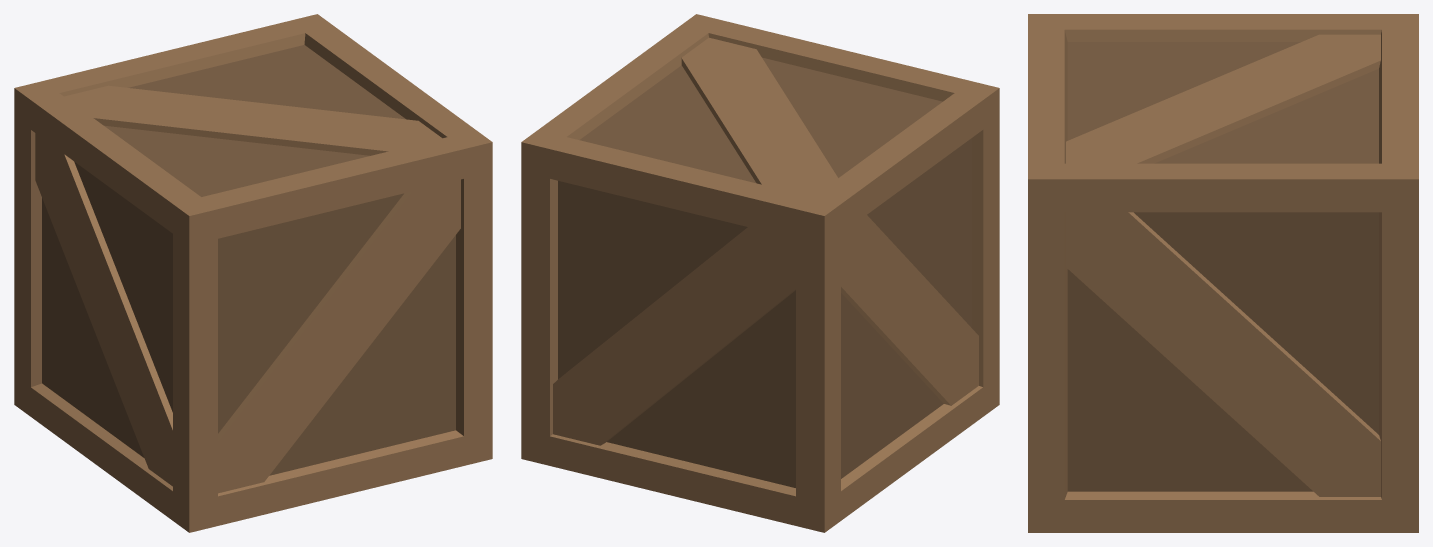
The model's file is SM_Crate_01.fbx.
The picture shows the model from 3 angles, left to right: view 1: azimuth 30°, elevation 25°; view 2: azimuth 150°, elevation 25°; view 3: azimuth 270°, elevation 25°; orthographic projection. The views are drawn at different scales.
Parts seen in each view (by area): view 1: pCube615; view 2: pCube615; view 3: pCube615.
Boxes of the visible parts, box(x1,y1,x2,y2) form: pCube615: box(14, 14, 492, 532); pCube615: box(521, 14, 999, 532); pCube615: box(1028, 14, 1418, 532).
Size of the model in its own units: 49.34 by 49.26 by 49.34.
Materials: 1 (1 with a texture image).
